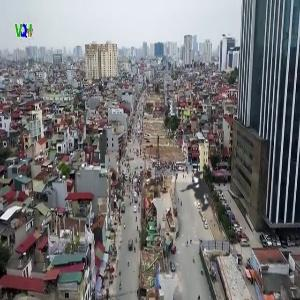drone: (133, 121, 267, 255)
